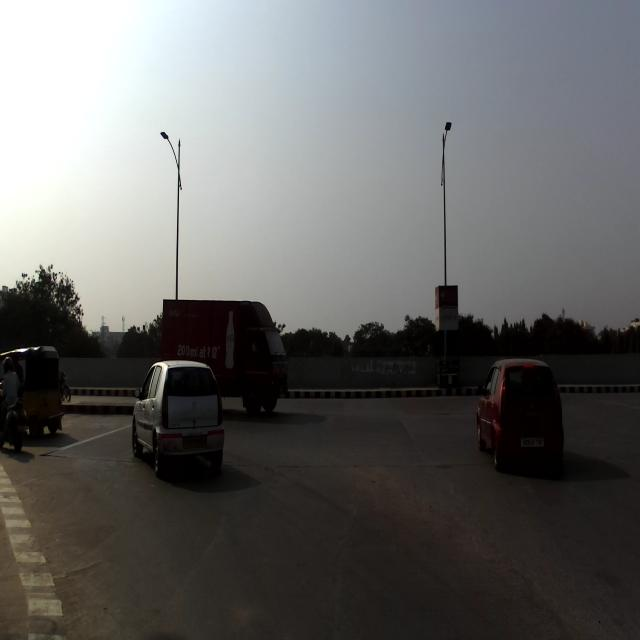car ahead at: (127, 354, 221, 504), (476, 348, 576, 472)
